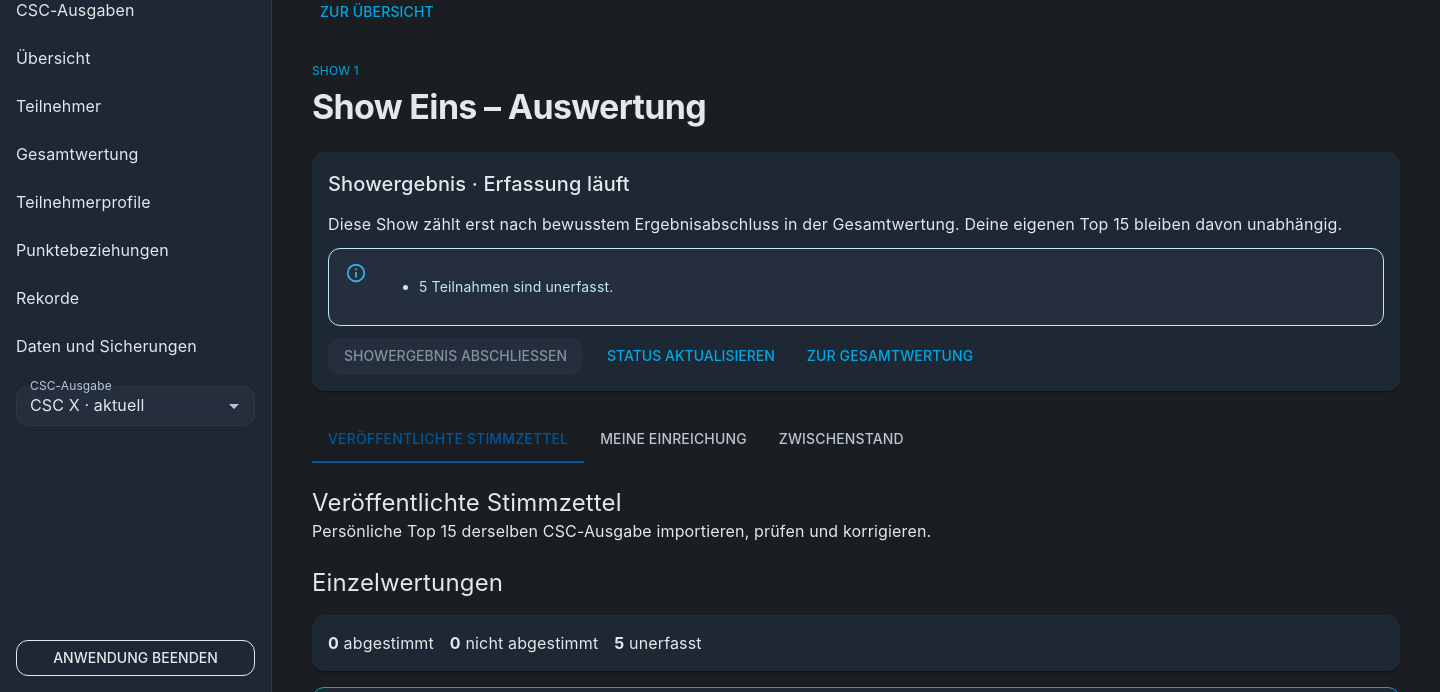
Test: evaluation navigation › keeps all views under the canonical URL-addressable evaluation area
This screenshot has width=1440, height=692.
Expected: the tab "Veröffentlichte Stimmzettel" is shown, [328,430,568,447]
Expected: the heading "Veröffentlichte Stimmzettel" is shown, [312,488,622,517]
Click the tab "Meine Einreichung" at (674, 439), box [600,430,747,447]
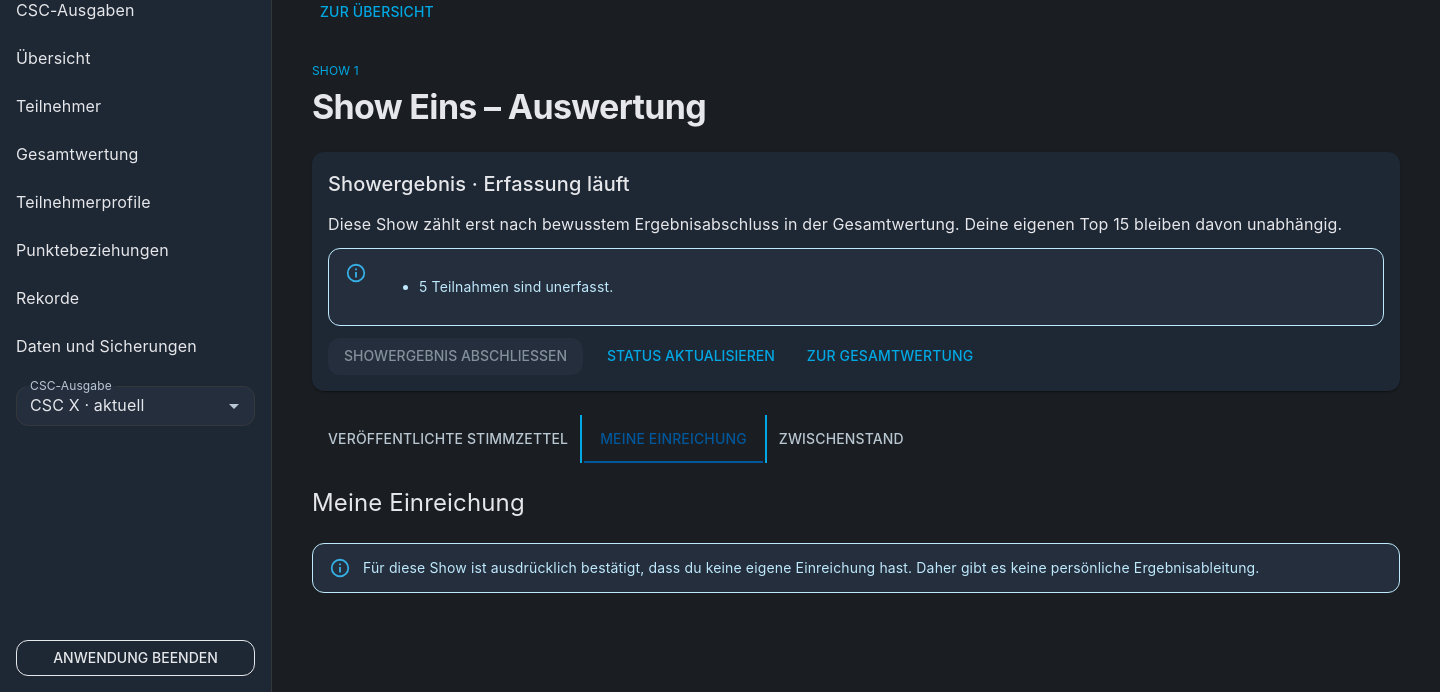
Expected: the text "keine eigene Einreichung" is shown, [363,559,1260,576]
Click the tab "Zwischenstand" at (841, 439), box [779,430,904,447]
(page scrolled)
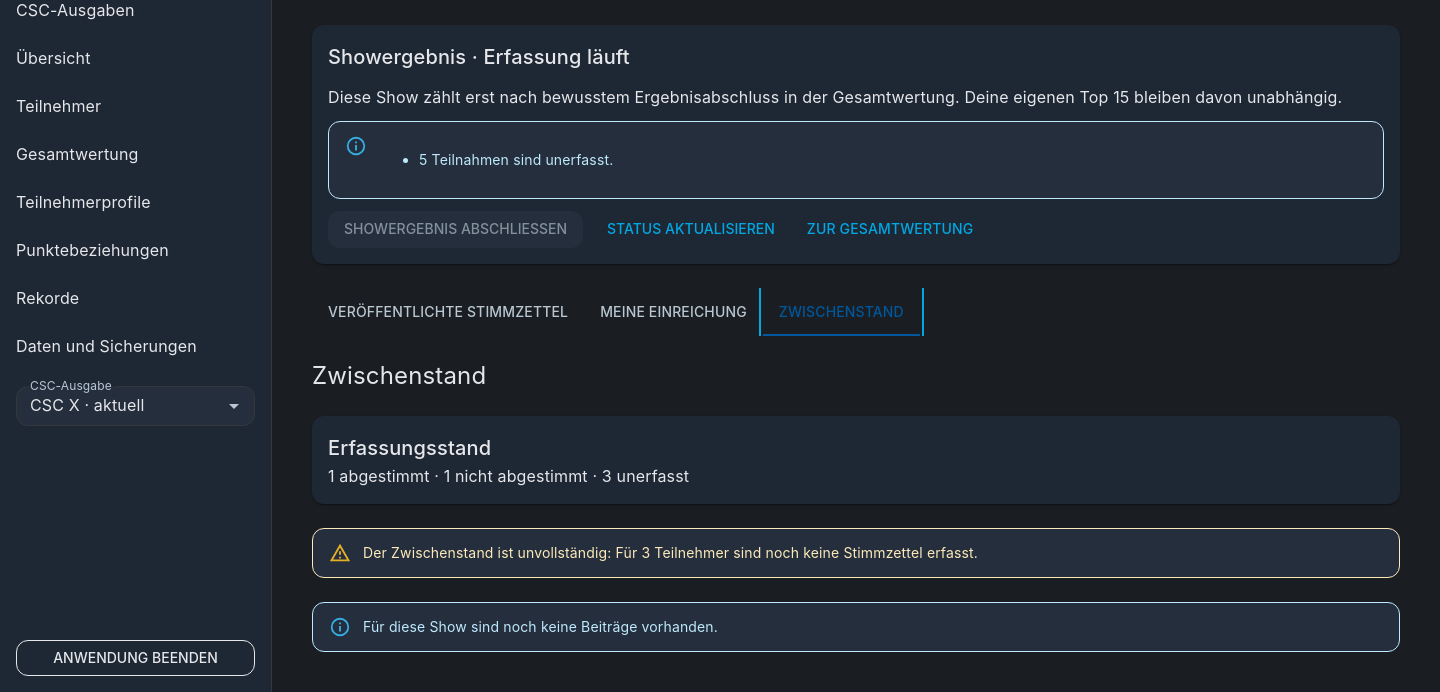
Expected: the heading "Zwischenstand" is shown, [312,361,486,390]
Expected: the text "1 abgestimmt · 1 nicht abgestimmt · 3 unerfasst" is shown, [328,466,689,486]
Expected: the text "Zwischenstand ist unvollständig" is shown, [363,544,642,561]
